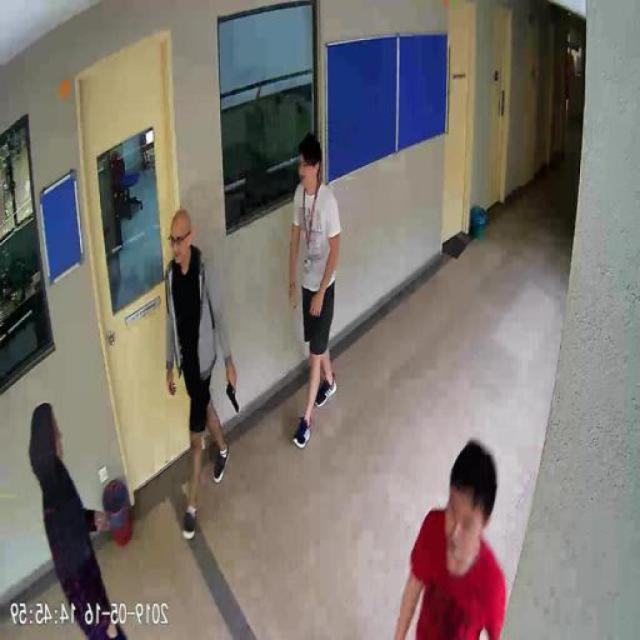pistol: (227, 374, 241, 412)
